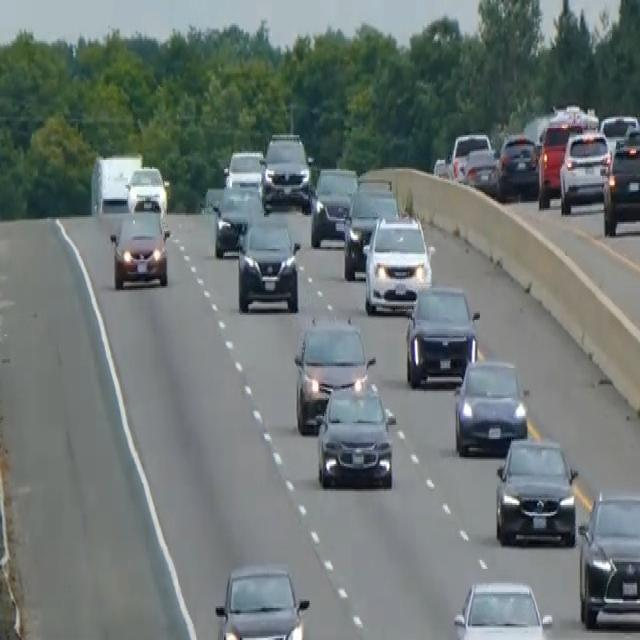car: (293, 314, 375, 434), (494, 434, 578, 546), (316, 377, 396, 489), (577, 489, 639, 629), (405, 281, 480, 387), (453, 355, 528, 457), (214, 562, 310, 638), (362, 212, 433, 314), (236, 217, 300, 313), (452, 578, 553, 638), (343, 181, 399, 279), (109, 206, 169, 290), (558, 128, 611, 213), (536, 114, 584, 206), (602, 124, 639, 234), (309, 164, 358, 247), (260, 132, 310, 210), (213, 181, 262, 258), (495, 130, 539, 199), (449, 130, 494, 185), (125, 164, 168, 214), (224, 148, 264, 192), (462, 146, 498, 194), (599, 112, 639, 155), (200, 183, 225, 213)
lorry: (90, 149, 143, 215)
